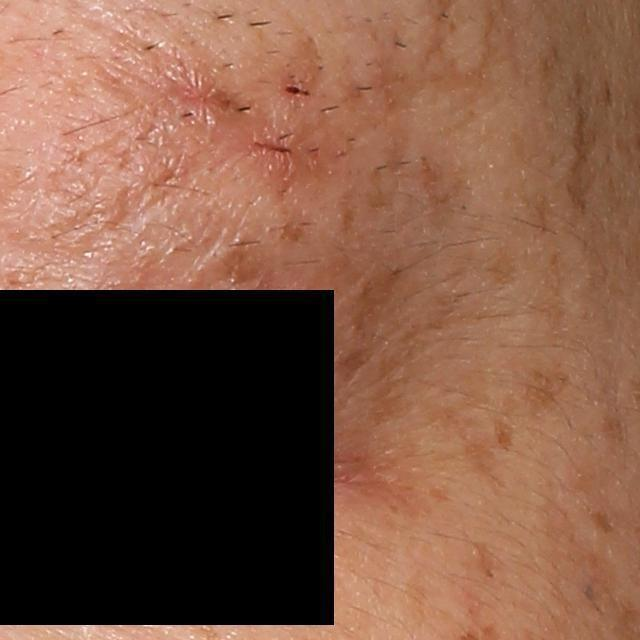melasma: (527, 366, 571, 416), (335, 337, 380, 385), (462, 439, 502, 493), (465, 539, 509, 581), (485, 413, 521, 456), (486, 251, 521, 288), (589, 508, 618, 541), (428, 482, 450, 501)
